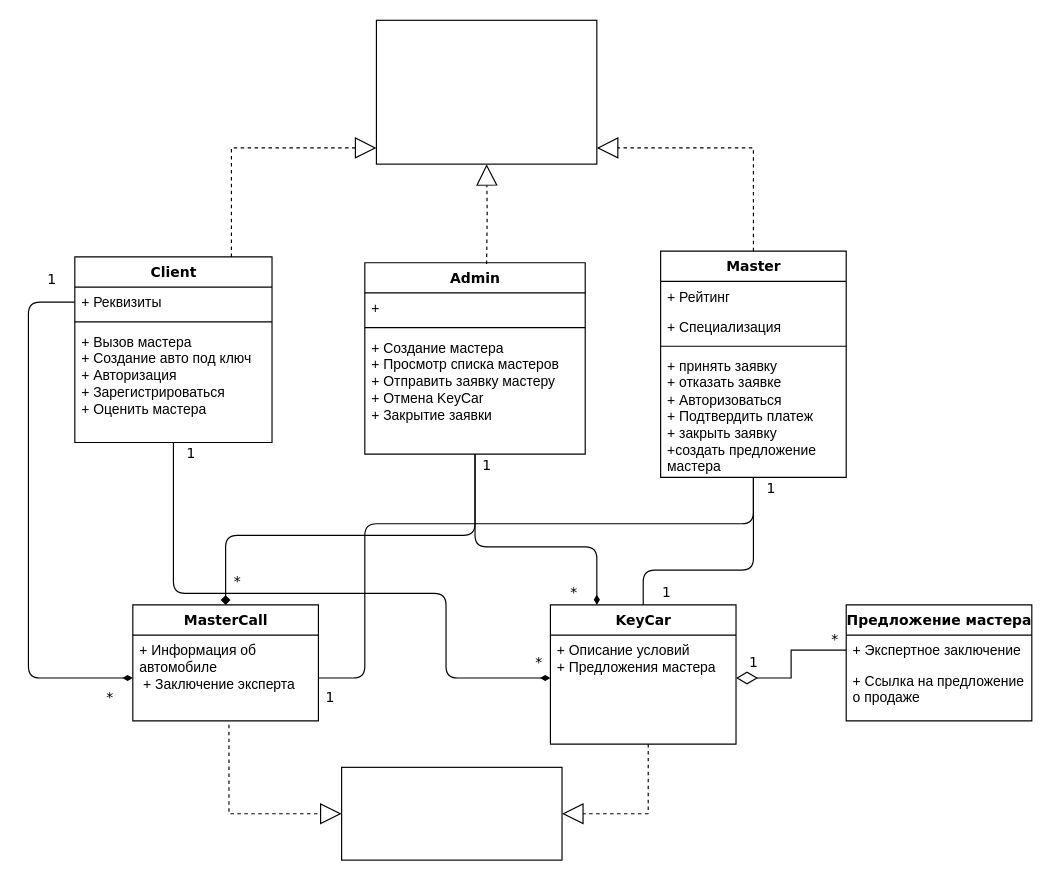
Image size: 1052x880. Some labels were removed from this diagram. Each missing label, with the centre of its shape:
<<Interface>> Order + Дата + Цена: [451,813]
<<Interface>> Person + ФИО + Номер телефона + Логин + Пароль + Почта: [486,91]
